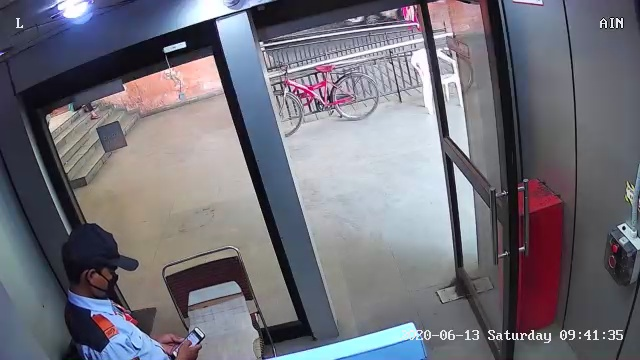open: (217, 5, 545, 358)
